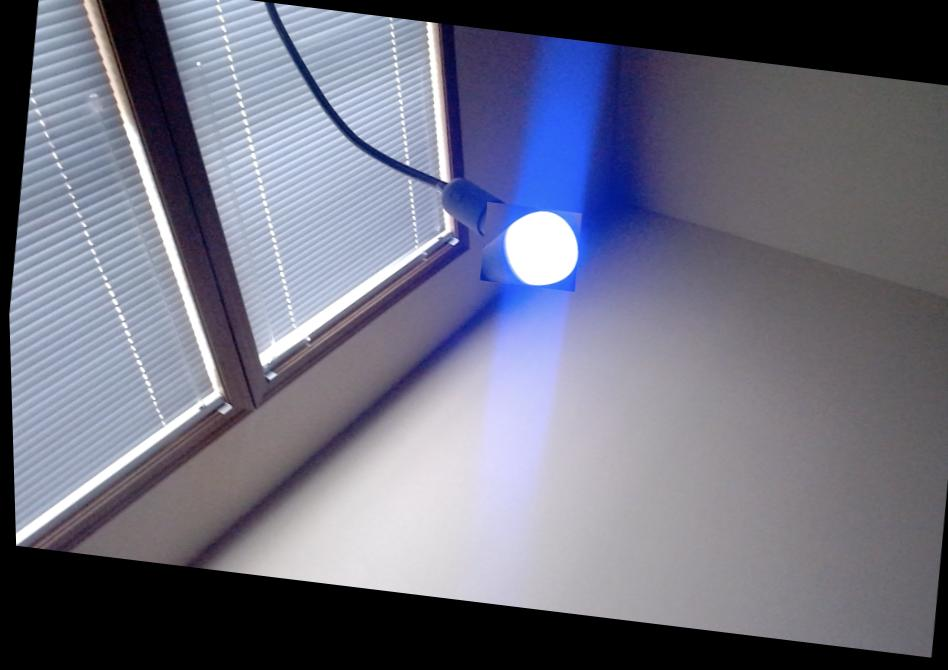TubeLight: (475, 201, 581, 291)
